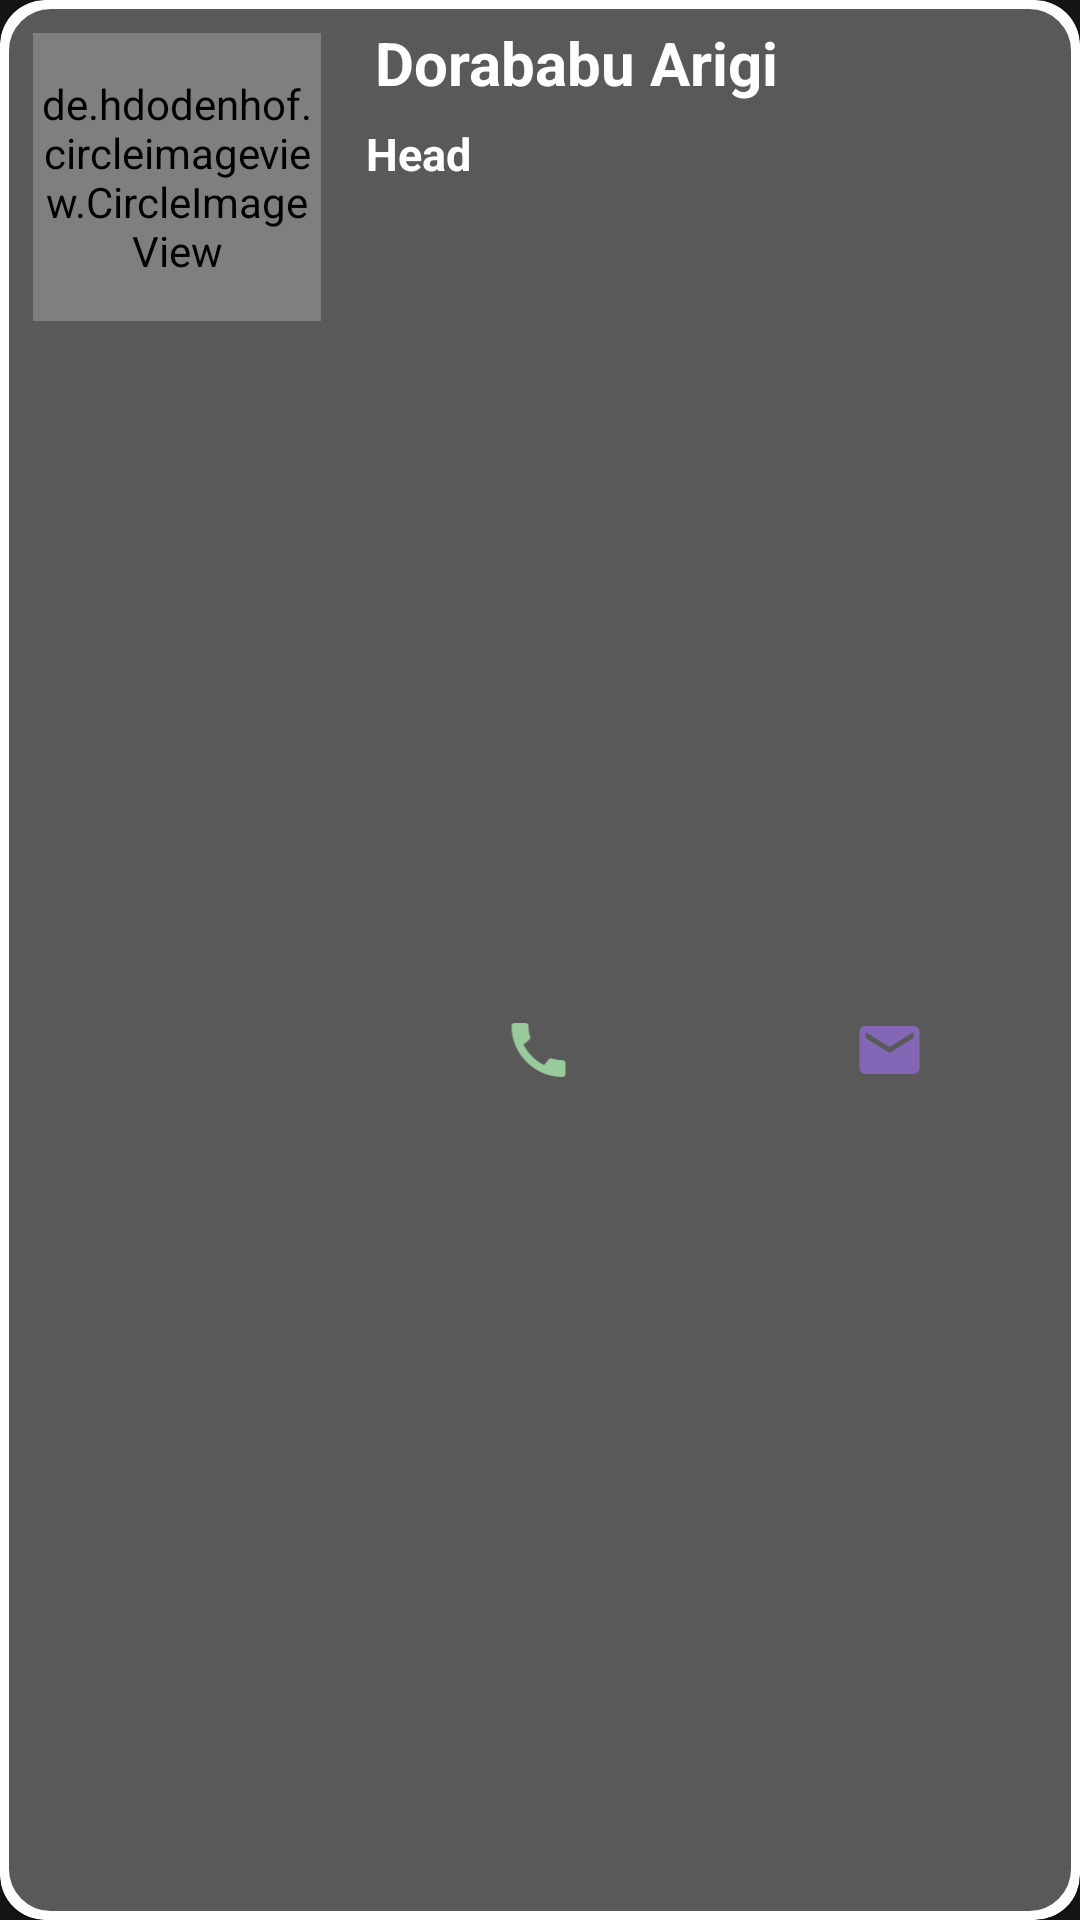

Icons on this 1080 × 1920 Android screen, each with its box as (x1=x1, y1=y1, x2=x2, y2=y2):
call: (x1=511, y1=1023, x2=566, y2=1077)
email: (x1=859, y1=1026, x2=920, y2=1074)
